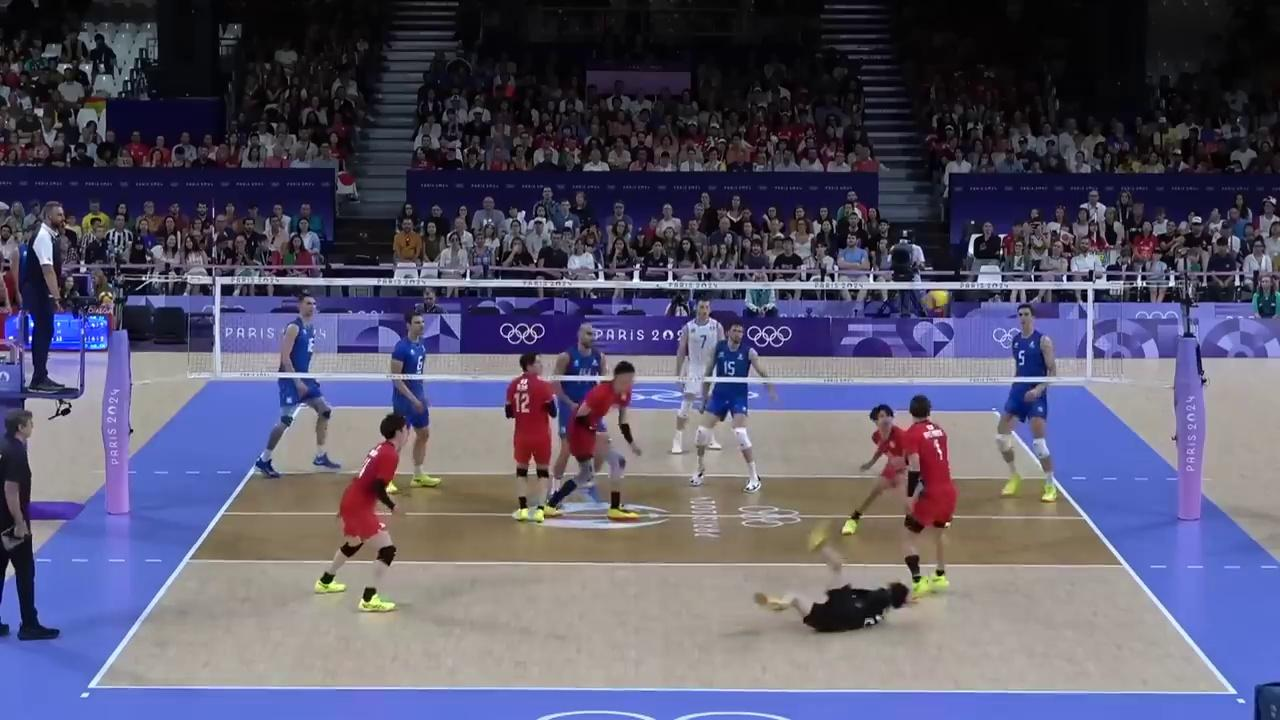ball: (923, 288, 952, 315)
